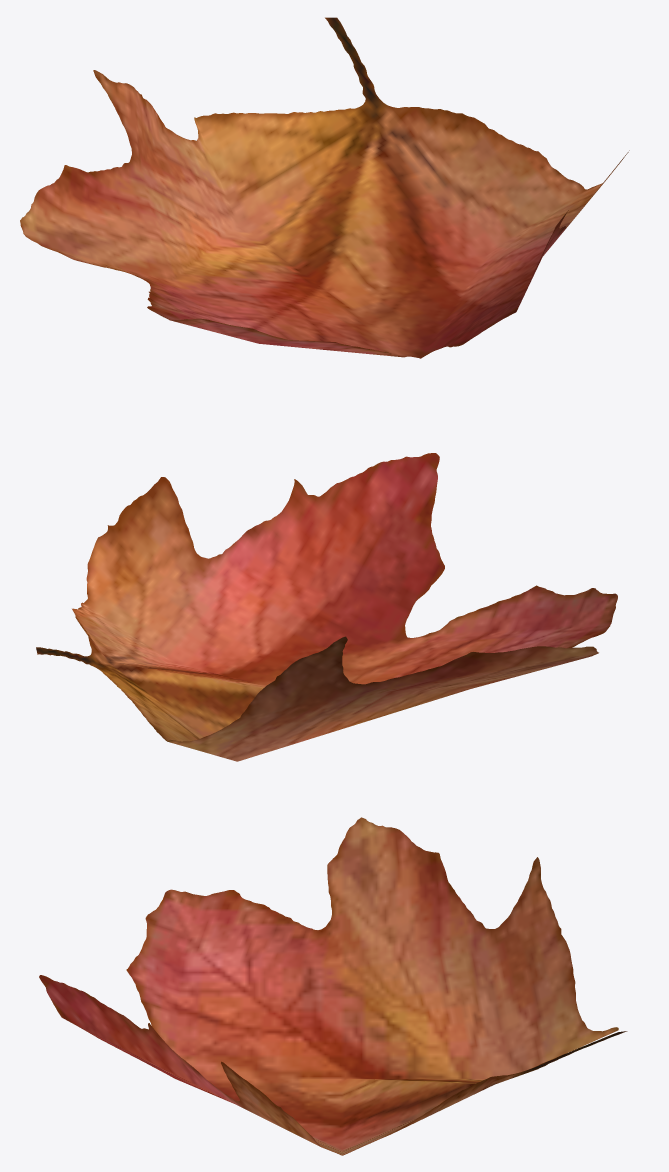
The model's file is leaf.fbx.
3 views of the same model, one above another, from view 1: azimuth 30°, elevation 25°; view 2: azimuth 150°, elevation 25°; view 3: azimuth 270°, elevation 25° (orthographic). The views are drawn at different scales.
Parts seen in each view (by area): view 1: mesh_0; view 2: mesh_0; view 3: mesh_0.
Boxes of the visible parts, x1=… form: mesh_0: x1=20, y1=17, x2=629, y2=358; mesh_0: x1=36, y1=453, x2=617, y2=761; mesh_0: x1=39, y1=817, x2=627, y2=1155.
Size of the model in its own units: 31.87 by 10.12 by 31.86.
1 material, 1 textured.
